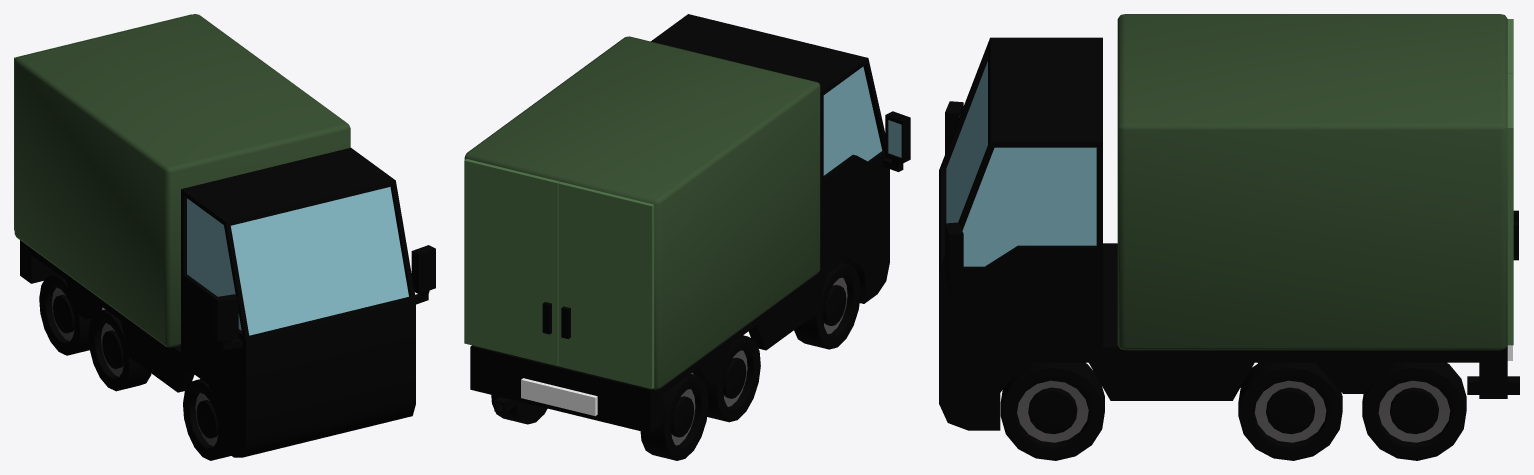
The model's file is kamyon.fbx.
3 renders of one model, left to right at view 1: azimuth 30°, elevation 25°; view 2: azimuth 150°, elevation 25°; view 3: azimuth 270°, elevation 25°, orthographic. The views are drawn at different scales.
Visible parts, largest first — view 1: kamyon, ortateker, arkateker, onteker; view 2: kamyon, sagkapi, solkapi, arkateker, onteker, ortateker; view 3: kamyon, ortateker, onteker, arkateker, solkapi.
Boxes of the visible parts, x1=… form: kamyon: x1=14, y1=14, x2=435, y2=457; ortateker: x1=88, y1=309, x2=151, y2=391; arkateker: x1=39, y1=274, x2=105, y2=355; onteker: x1=183, y1=379, x2=231, y2=460; kamyon: x1=464, y1=14, x2=910, y2=433; sagkapi: x1=558, y1=182, x2=654, y2=388; solkapi: x1=464, y1=159, x2=559, y2=366; arkateker: x1=491, y1=374, x2=708, y2=460; onteker: x1=794, y1=262, x2=860, y2=349; ortateker: x1=691, y1=335, x2=760, y2=422; kamyon: x1=939, y1=14, x2=1519, y2=430; ortateker: x1=1238, y1=362, x2=1342, y2=460; onteker: x1=1000, y1=362, x2=1104, y2=460; arkateker: x1=1362, y1=362, x2=1466, y2=460; solkapi: x1=1507, y1=73, x2=1518, y2=345.
Bounding box in the file's own units: 562 × 669 × 1030.
